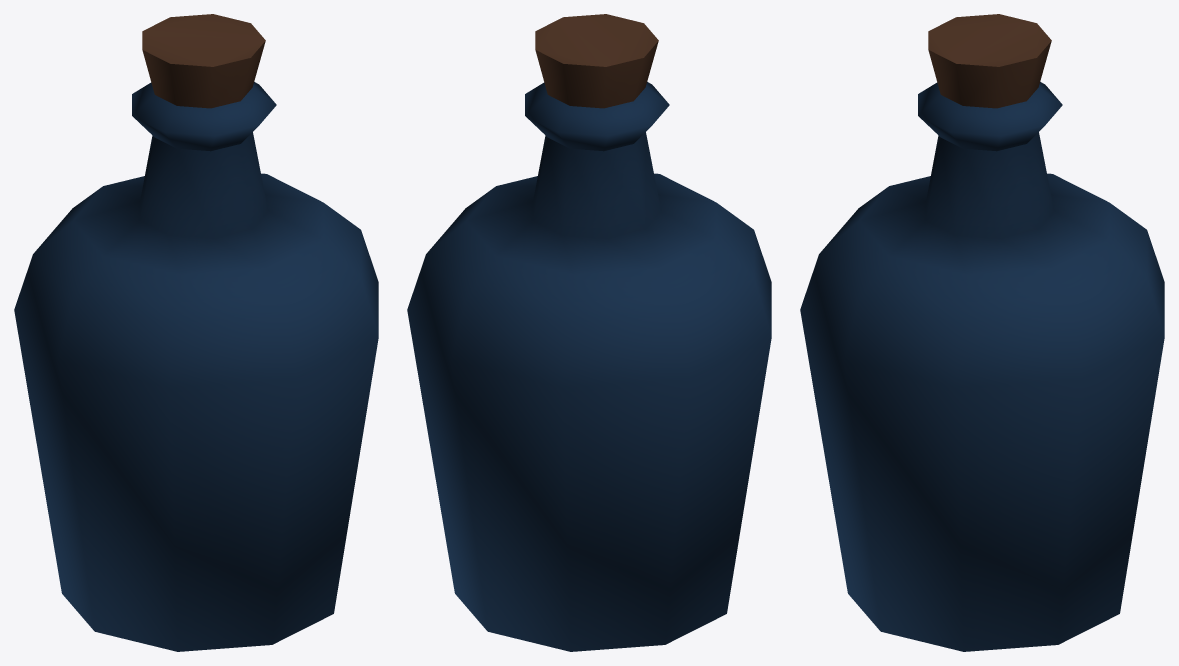
Rendered from obj_bottle_B_LOW.FBX.
The picture shows the model from 3 angles, left to right: view 1: azimuth 30°, elevation 25°; view 2: azimuth 150°, elevation 25°; view 3: azimuth 270°, elevation 25°; orthographic projection.
Parts seen in each view (by area): view 1: obj_bottle_B_LOW; view 2: obj_bottle_B_LOW; view 3: obj_bottle_B_LOW.
Boxes of the visible parts, <box> form: obj_bottle_B_LOW: <box>14,14,378,651</box>; obj_bottle_B_LOW: <box>407,14,771,651</box>; obj_bottle_B_LOW: <box>800,14,1164,651</box>.
Size of the model in its own units: 0.5487 by 0.9044 by 0.5404.
